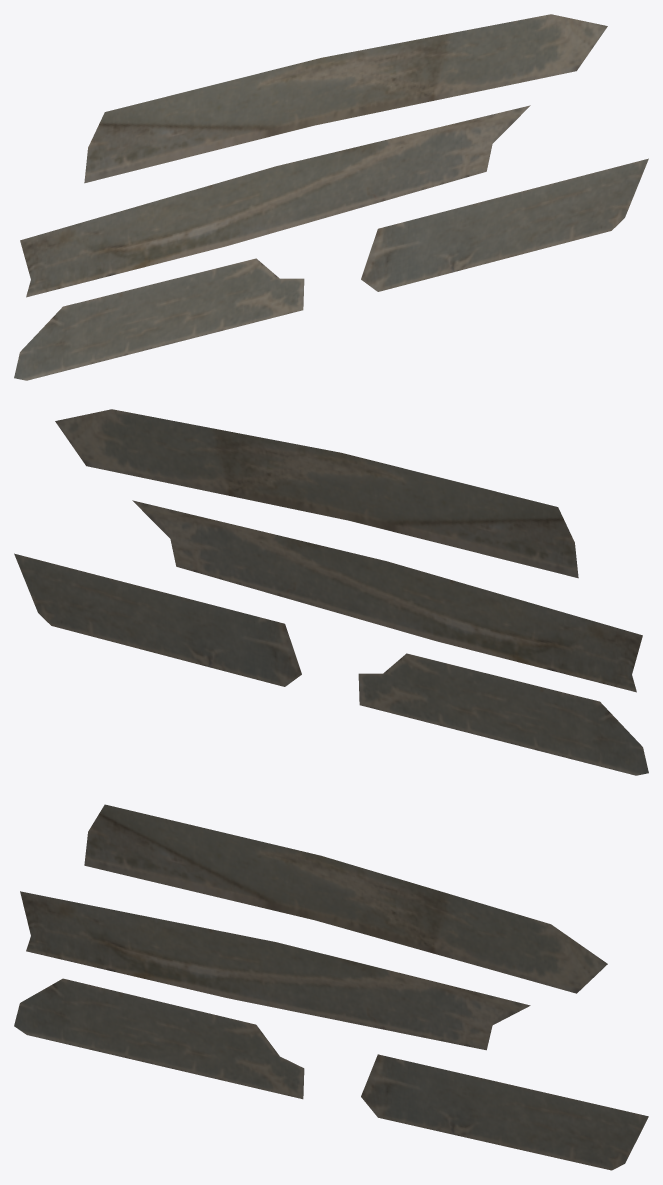
Rendered from SM_Broken_Tape_01.fbx.
3 views of the same model, one above another, from view 1: azimuth 30°, elevation 25°; view 2: azimuth 150°, elevation 25°; view 3: azimuth 330°, elevation 25° (orthographic).
Parts seen in each view (by area): view 1: SM_Broken_Tape_01; view 2: SM_Broken_Tape_01; view 3: SM_Broken_Tape_01.
Boxes of the visible parts, x1,y1,x2,y2 form: SM_Broken_Tape_01: [14, 14, 648, 380]; SM_Broken_Tape_01: [14, 409, 648, 775]; SM_Broken_Tape_01: [14, 804, 648, 1170].
Bounding box in the file's own units: 86.14 × 32.55 × 0.
1 material, 1 textured.
